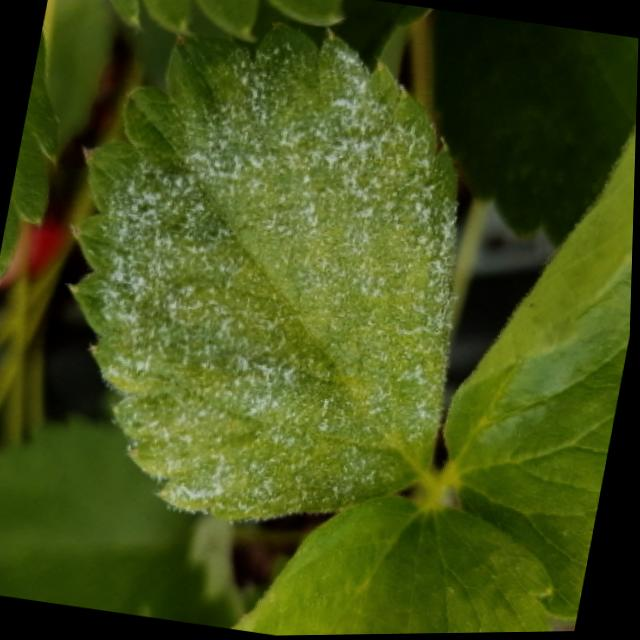Powdery Mildew Leaf: (67, 20, 463, 522)
